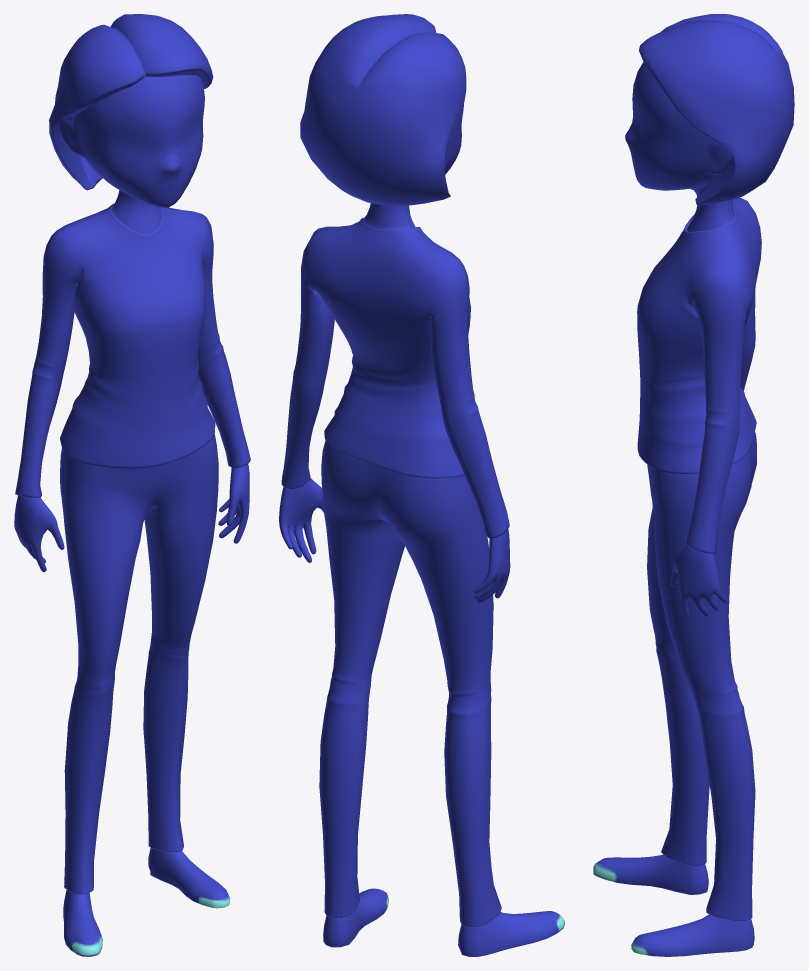
The model's file is ceshi.glb.
The picture shows the model from 3 angles, left to right: view 1: azimuth 30°, elevation 25°; view 2: azimuth 150°, elevation 25°; view 3: azimuth 270°, elevation 25°; orthographic projection. The views are drawn at different scales.
Parts seen in each view (by area): view 1: mesh_id31; view 2: mesh_id31; view 3: mesh_id31.
Boxes of the visible parts, x1=… form: mesh_id31: x1=14, y1=14, x2=250, y2=956; mesh_id31: x1=279, y1=14, x2=564, y2=956; mesh_id31: x1=593, y1=14, x2=794, y2=956.
Bounding box in the file's own units: 0.1303 × 0.4889 × 0.0985.
Materials: 1 (1 with a texture image).
